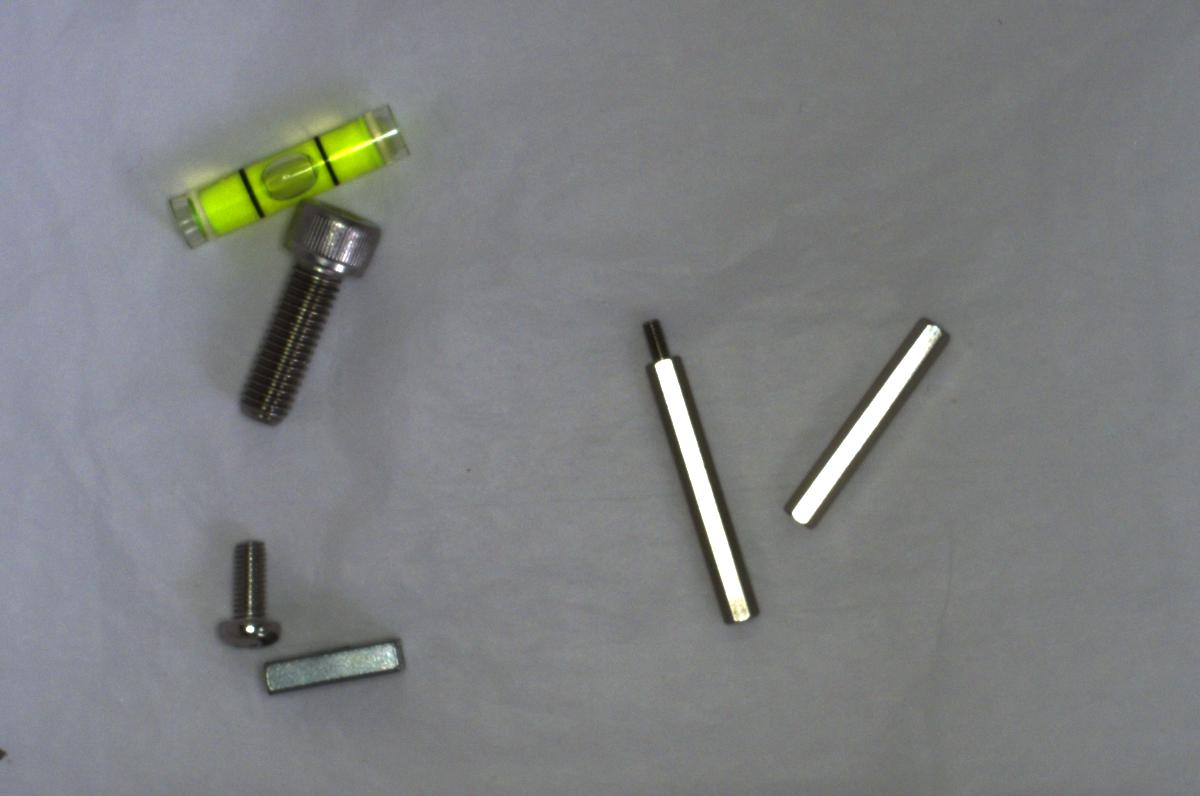Double hexagonal column: (772, 306, 955, 527)
Hexagon screw: (230, 193, 377, 425)
Hexagonal steel column: (632, 303, 762, 630)
Horizontal bubble: (162, 101, 415, 246)
Rectangular nut: (258, 633, 406, 702)
Round head screw: (207, 529, 281, 655)
